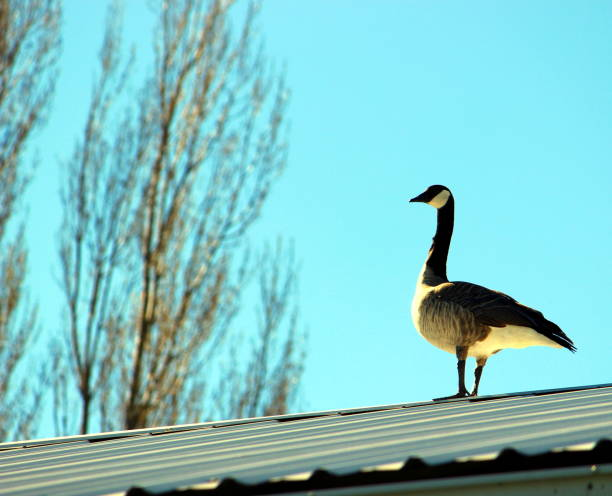goose: (405, 181, 579, 406)
